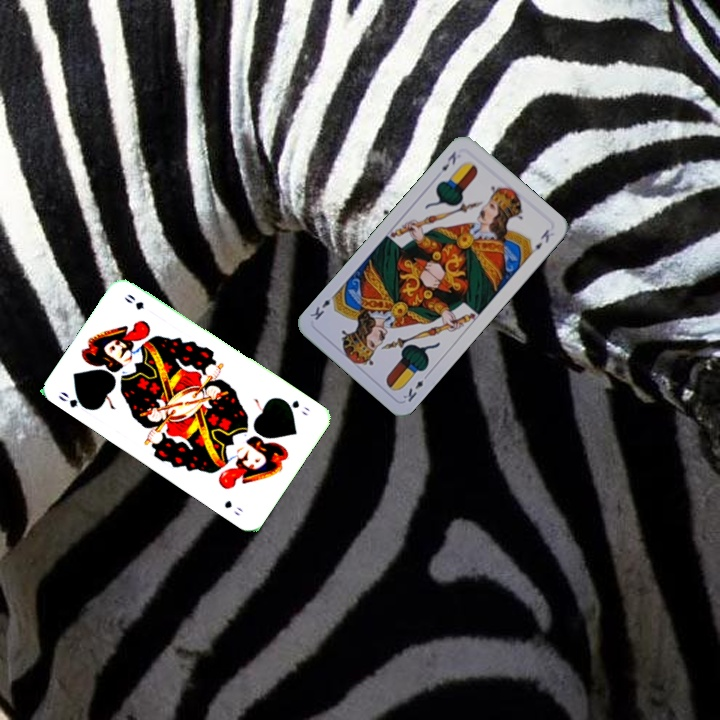EK: (399, 369, 432, 405), (438, 147, 459, 174)
GO: (54, 387, 93, 413), (278, 395, 312, 418)
